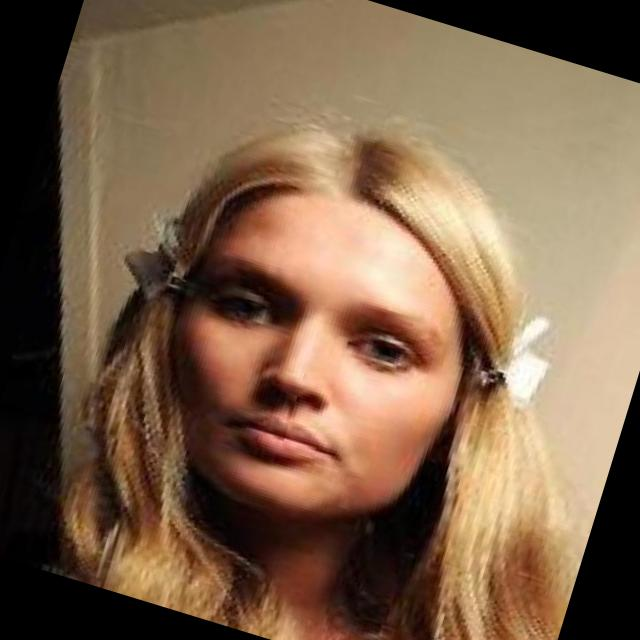bareface: (138, 141, 494, 538)
